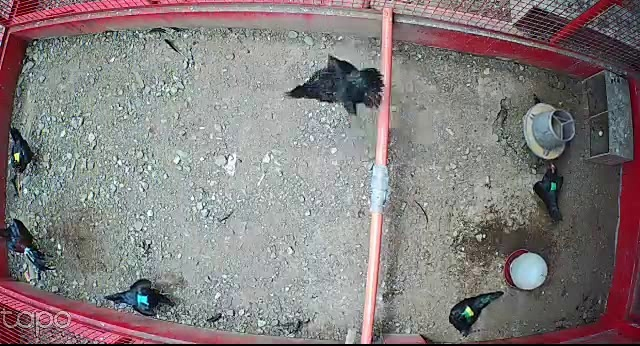Chicken: (280, 49, 384, 126), (105, 276, 177, 317), (445, 290, 505, 339), (530, 160, 569, 226), (7, 123, 40, 189)
Drinker: (504, 249, 548, 291)
Feeder: (522, 102, 575, 161)
Rooster: (0, 210, 49, 284)
Saddle_Color_Blue: (135, 292, 153, 308)
Saddle_Color_Green: (549, 182, 558, 191)
Saddle_Color_Yellow: (13, 151, 21, 164)
Saddle_Color_YellowGreen: (462, 305, 474, 318)
